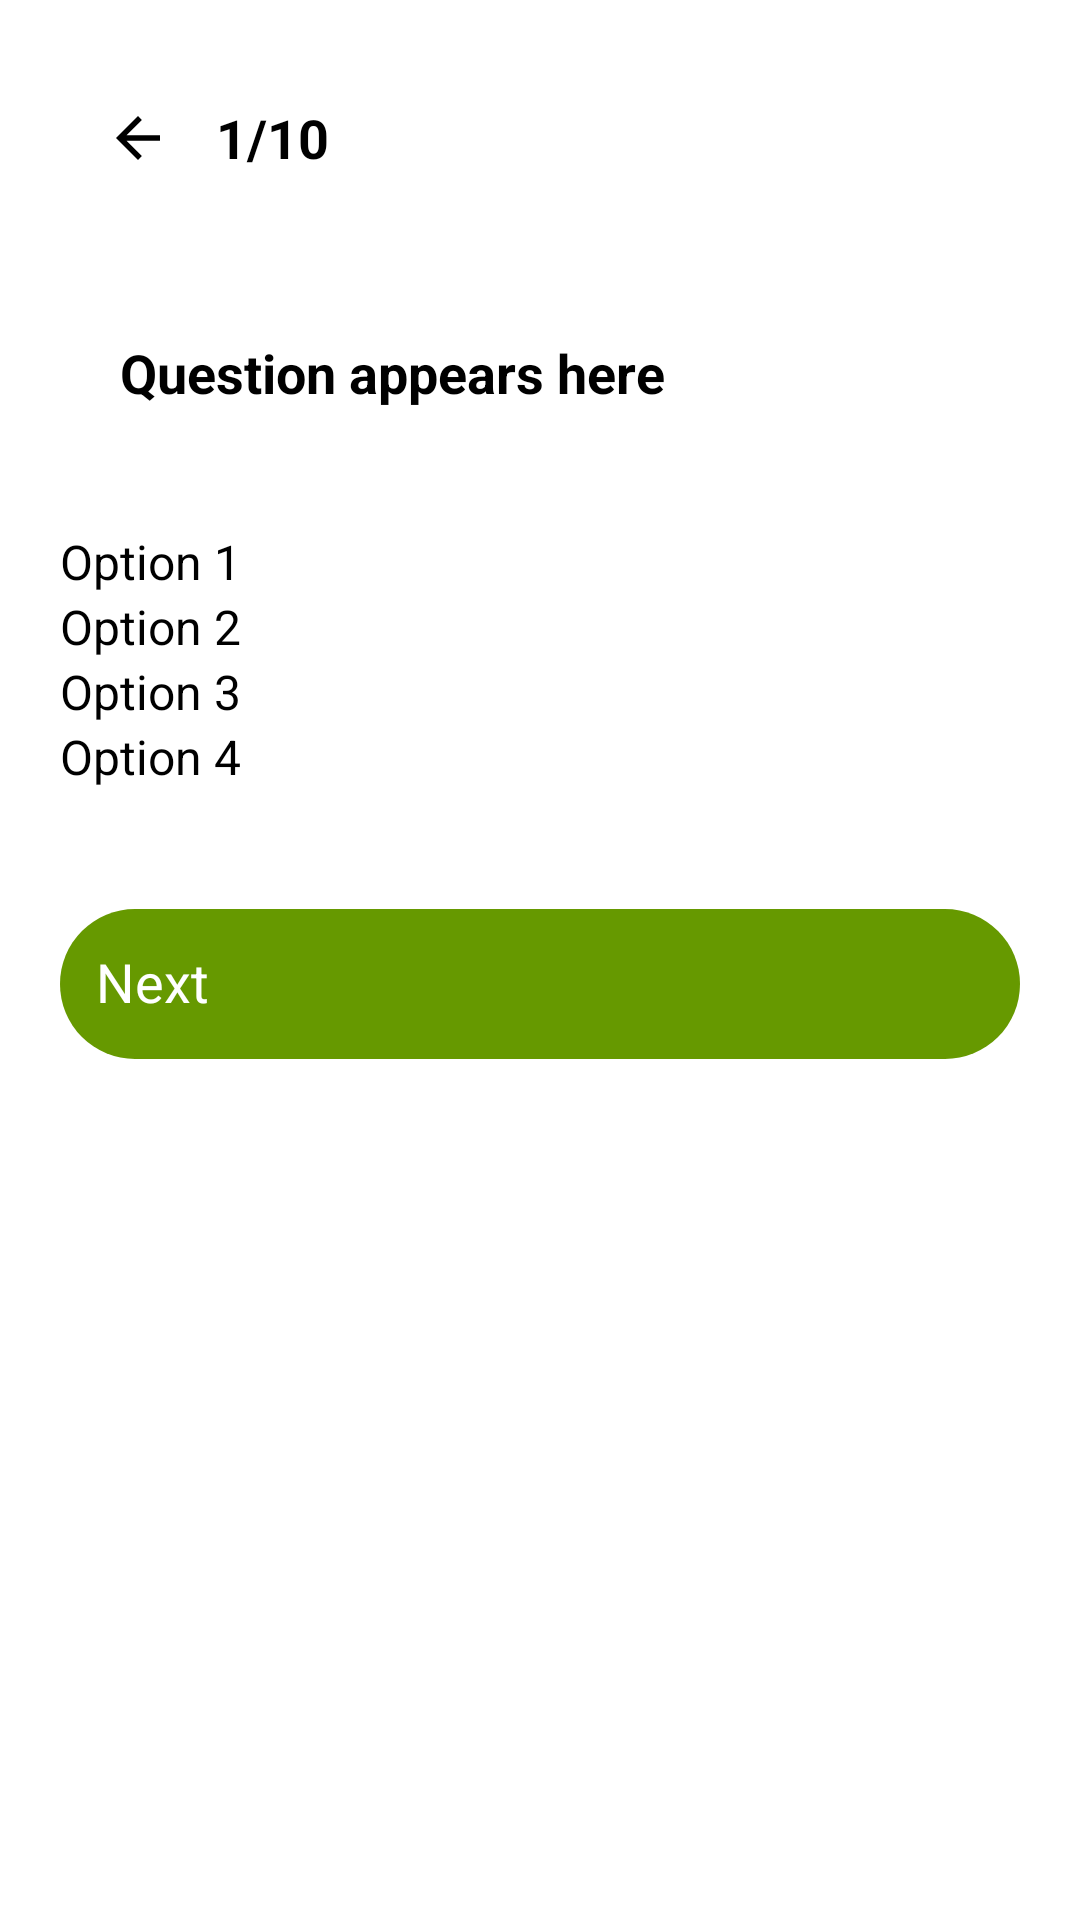

Screen size 1080x1920. Icon name, then its box in pixels as (x1, y1, x2, y2):
back arrow: (116, 116, 160, 160)
